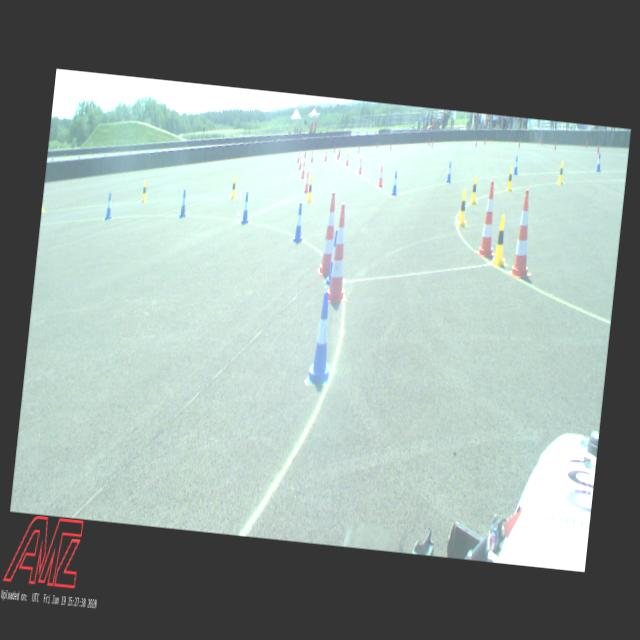blue_cone: (306, 291, 339, 384), (325, 230, 337, 285), (292, 203, 306, 243), (240, 191, 252, 224), (104, 192, 114, 221), (179, 189, 188, 218), (391, 170, 399, 195), (512, 155, 520, 175), (445, 162, 452, 182), (595, 152, 602, 171)
large_orange_cone: (507, 188, 539, 278), (327, 204, 354, 304), (476, 180, 502, 258), (316, 192, 338, 275)
orange_cone: (378, 166, 384, 187), (304, 171, 310, 192), (300, 162, 306, 178), (358, 156, 363, 174), (344, 153, 350, 166), (298, 155, 302, 169), (324, 148, 328, 161), (310, 150, 314, 162), (336, 148, 340, 160), (296, 152, 300, 162)
yellow_cone: (491, 215, 511, 268), (456, 188, 469, 226), (469, 176, 479, 204), (556, 160, 566, 184), (306, 176, 314, 202), (506, 166, 514, 191), (140, 178, 148, 202), (230, 176, 238, 200)
